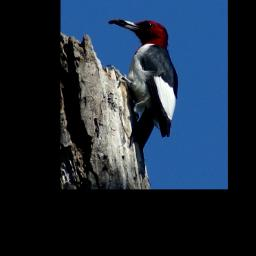Woodpecker: (109, 18, 179, 180)
